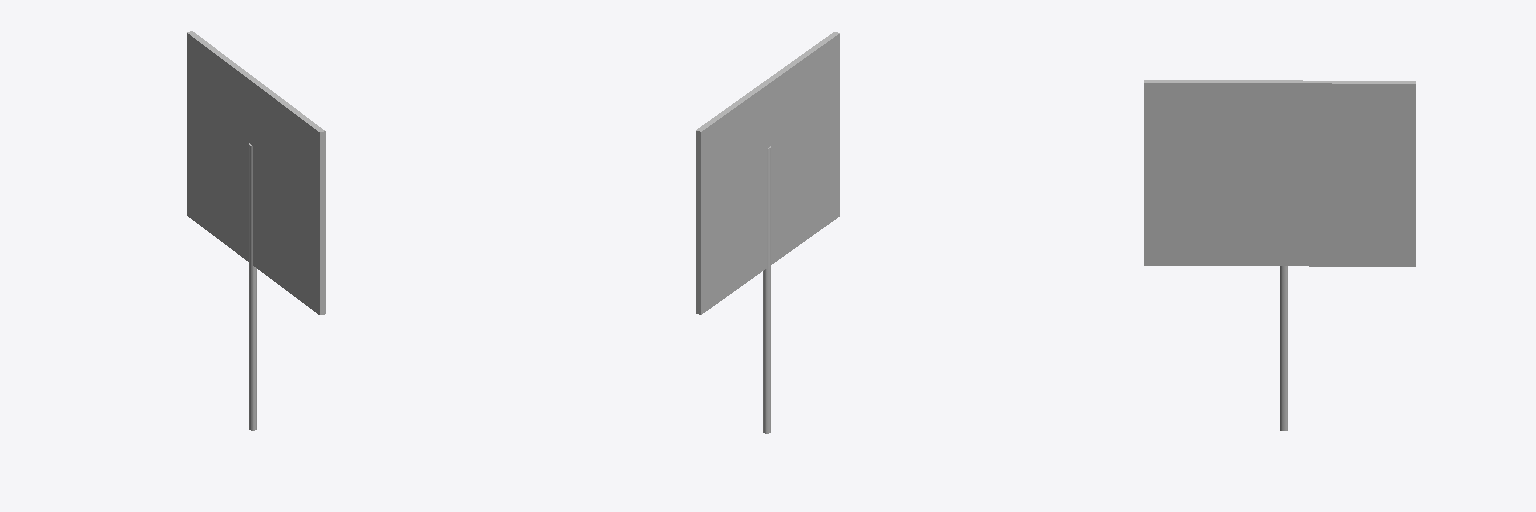
Rendered from board_17.obj.
3 views of the same model, side by side, from view 1: azimuth 30°, elevation 25°; view 2: azimuth 150°, elevation 25°; view 3: azimuth 270°, elevation 25° (orthographic).
Parts seen in each view (by area): view 1: Cube.022_Cube.023, Cylinder.022; view 2: Cube.022_Cube.023, Cylinder.022; view 3: Cube.022_Cube.023, Cylinder.022.
Part boxes in pixels (x1,y1,x2,y2): Cube.022_Cube.023: (187, 31, 325, 314); Cylinder.022: (249, 143, 256, 430); Cube.022_Cube.023: (696, 32, 839, 314); Cylinder.022: (763, 146, 770, 433); Cube.022_Cube.023: (1144, 80, 1415, 266); Cylinder.022: (1280, 266, 1287, 430).
Bounding box in the file's own units: 0.0051 × 0.19 × 0.1344.